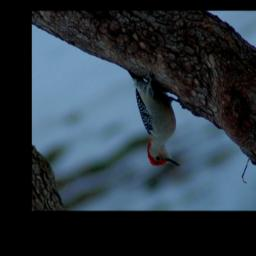Woodpecker: (126, 68, 182, 168)
